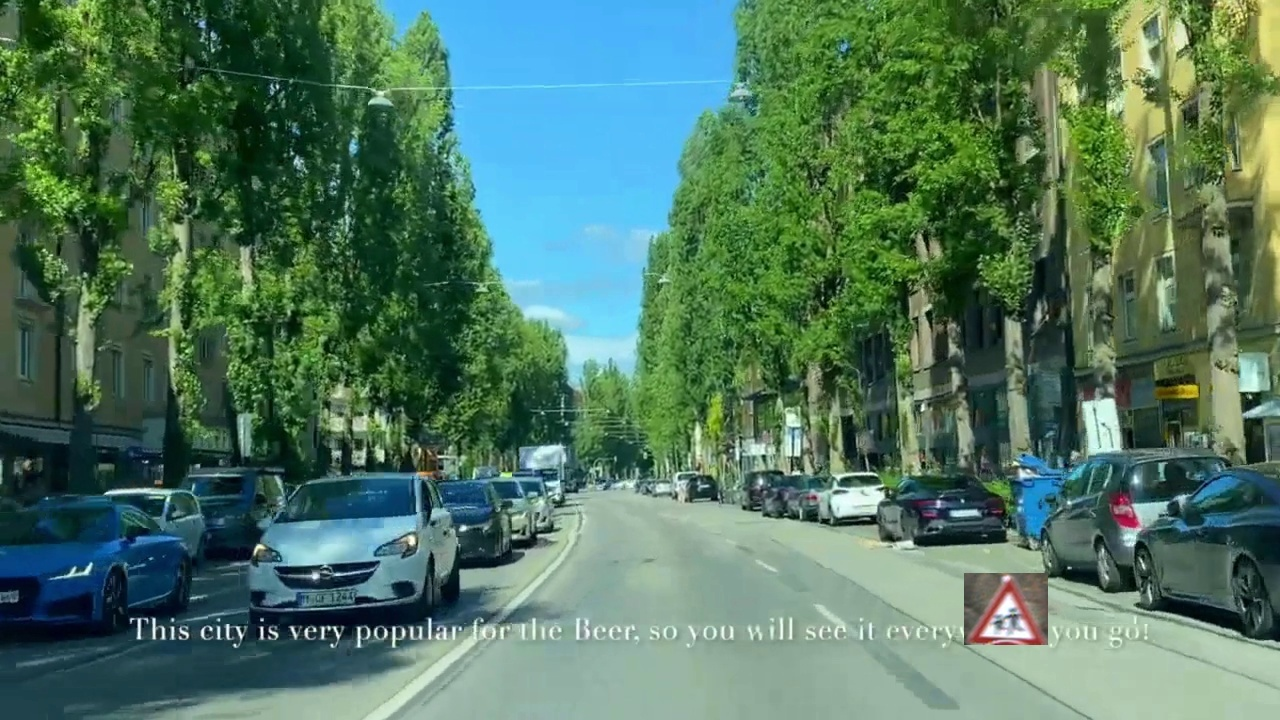Children: (964, 573, 1048, 645)
